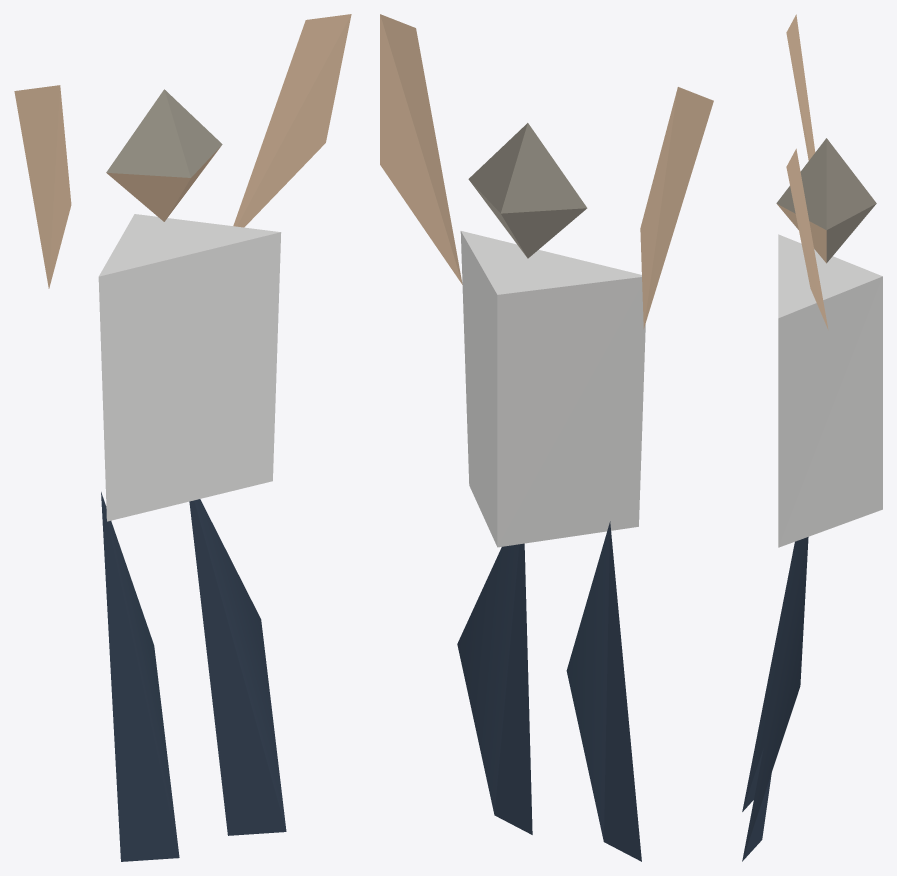
Rendered from fan-08.glb.
The picture shows the model from 3 angles, left to right: view 1: azimuth 30°, elevation 25°; view 2: azimuth 150°, elevation 25°; view 3: azimuth 270°, elevation 25°; orthographic projection. The views are drawn at different scales.
Parts seen in each view (by area): view 1: fan-08; view 2: fan-08; view 3: fan-08.
Boxes of the visible parts, x1,y1,x2,y2 form: fan-08: [14, 14, 351, 861]; fan-08: [380, 14, 713, 861]; fan-08: [742, 14, 882, 861].
Size of the model in its own units: 0.9 by 2.02 by 0.35.
